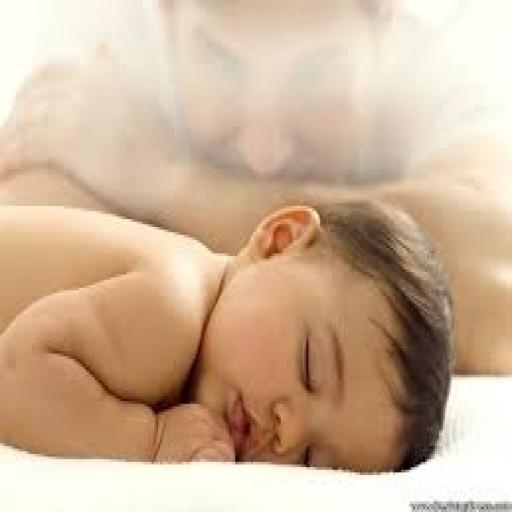sleeping: (0, 192, 457, 472)
